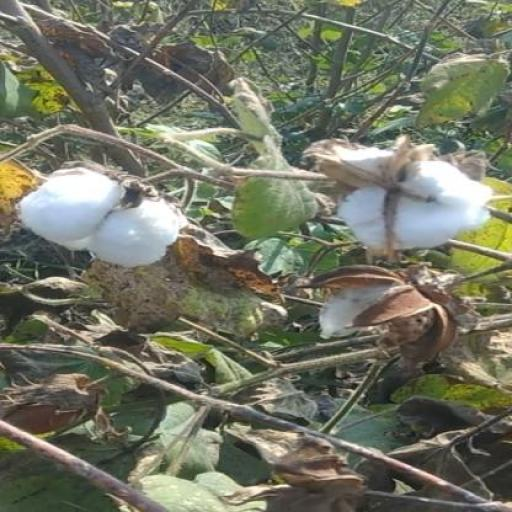cotton_ready: (309, 136, 495, 268), (31, 162, 194, 280)
